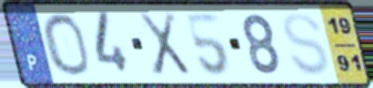4: (94, 8, 135, 81)
5: (182, 10, 232, 78)
8: (241, 12, 283, 77)
O: (40, 11, 93, 78)
S: (281, 10, 332, 79)
X: (135, 10, 193, 79)
